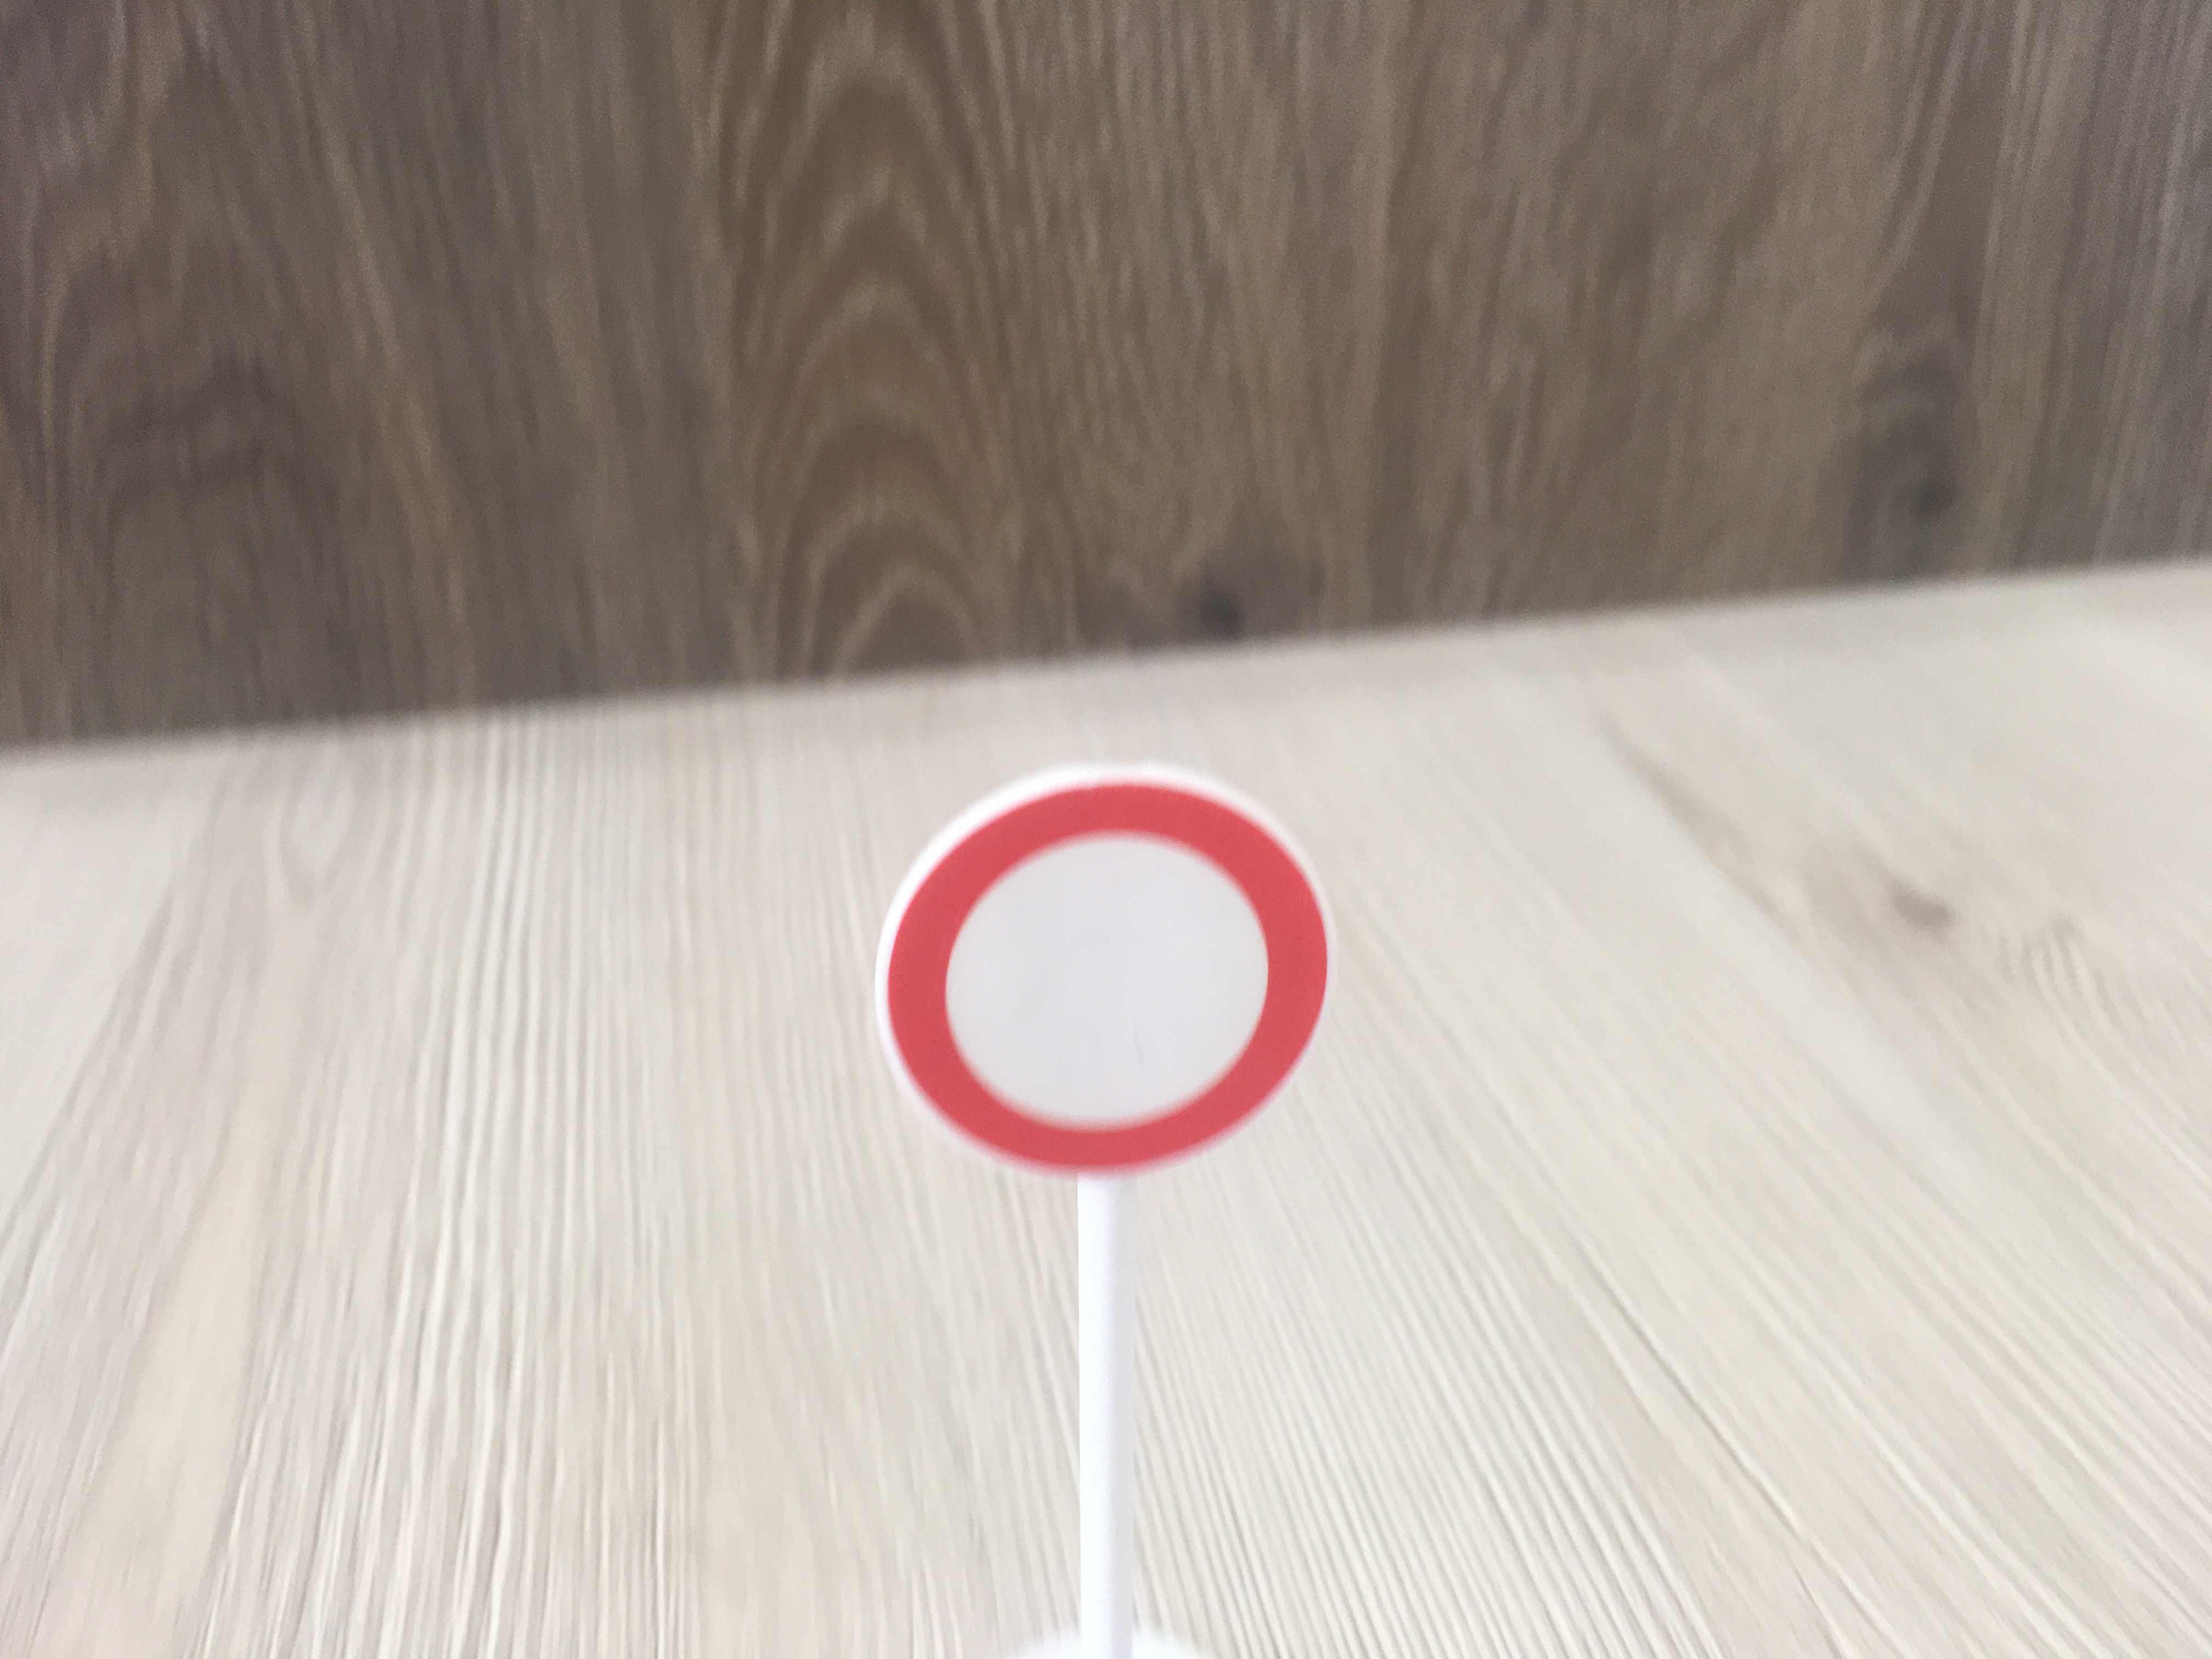noDrive: (869, 779, 1338, 1169)
